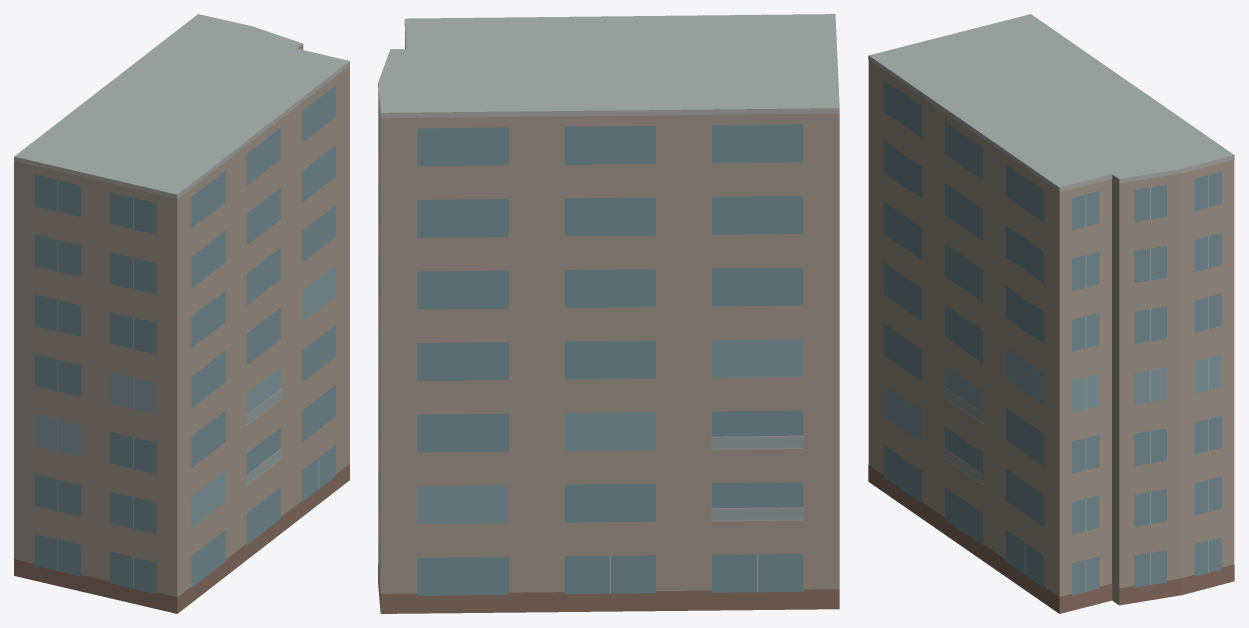
The model's file is survey-upis-33040068.glb.
3 views of the same model, side by side, from view 1: azimuth 30°, elevation 25°; view 2: azimuth 150°, elevation 25°; view 3: azimuth 270°, elevation 25° (orthographic). The views are drawn at different scales.
Visible parts, largest first — view 1: survey-upis-33040068.tmp; view 2: survey-upis-33040068.tmp; view 3: survey-upis-33040068.tmp.
Boxes of the visible parts, x1,y1,x2,y2 form: survey-upis-33040068.tmp: (14, 14, 349, 613); survey-upis-33040068.tmp: (378, 14, 839, 613); survey-upis-33040068.tmp: (868, 14, 1234, 613).
Bounding box in the file's own units: 19.92 × 22.8 × 17.74.
